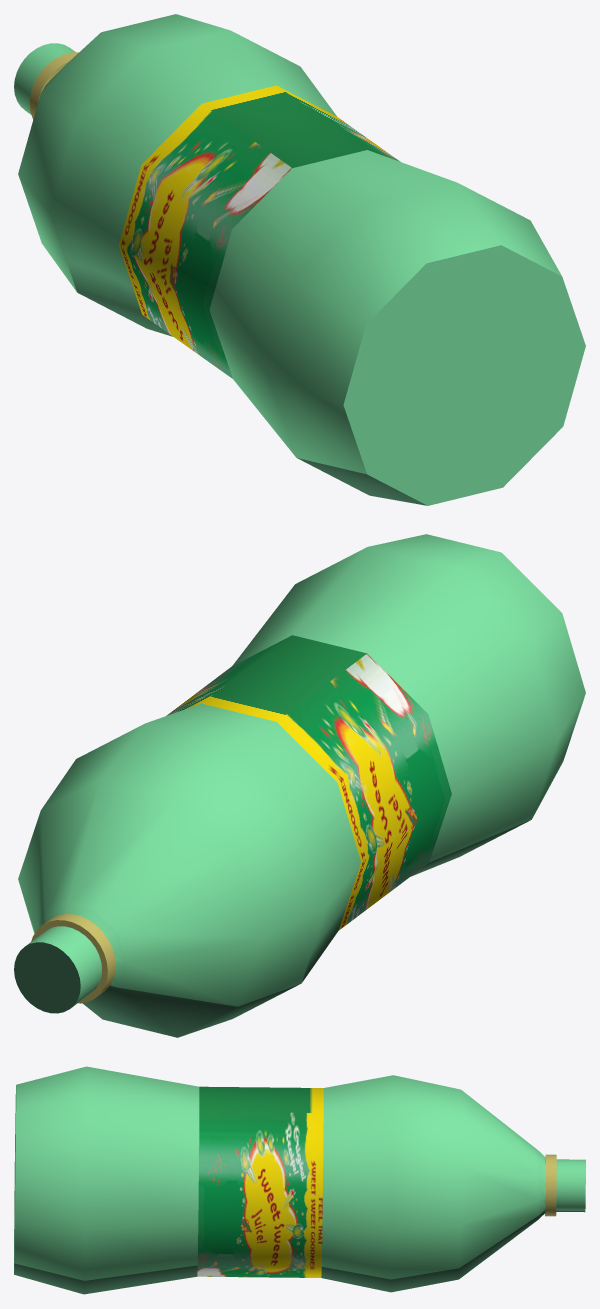
File: Spilled Bottle Model.fbx
3 renders of one model, top to bottom at view 1: azimuth 30°, elevation 25°; view 2: azimuth 150°, elevation 25°; view 3: azimuth 270°, elevation 25°, orthographic. The views are drawn at different scales.
Parts seen in each view (by area): view 1: Tilted_Bottle; view 2: Tilted_Bottle; view 3: Tilted_Bottle.
Part boxes in pixels (bbox=[...]): Tilted_Bottle: bbox=[14, 14, 585, 505]; Tilted_Bottle: bbox=[14, 534, 585, 1037]; Tilted_Bottle: bbox=[14, 1066, 585, 1294].
Bounding box in the file's own units: 2.4 × 2.28 × 5.98.
Materials: 1 (1 with a texture image).
